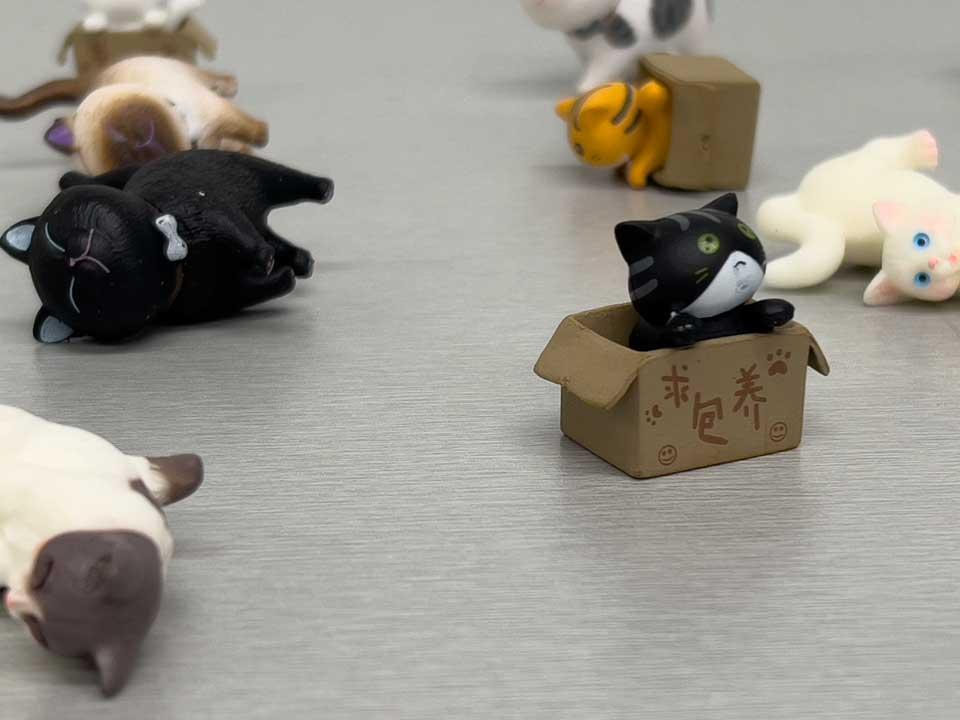pet: (539, 192, 834, 480), (1, 148, 333, 346), (0, 400, 204, 700), (755, 127, 959, 324), (549, 53, 761, 188), (76, 53, 268, 181), (521, 2, 726, 94), (56, 3, 211, 101)
